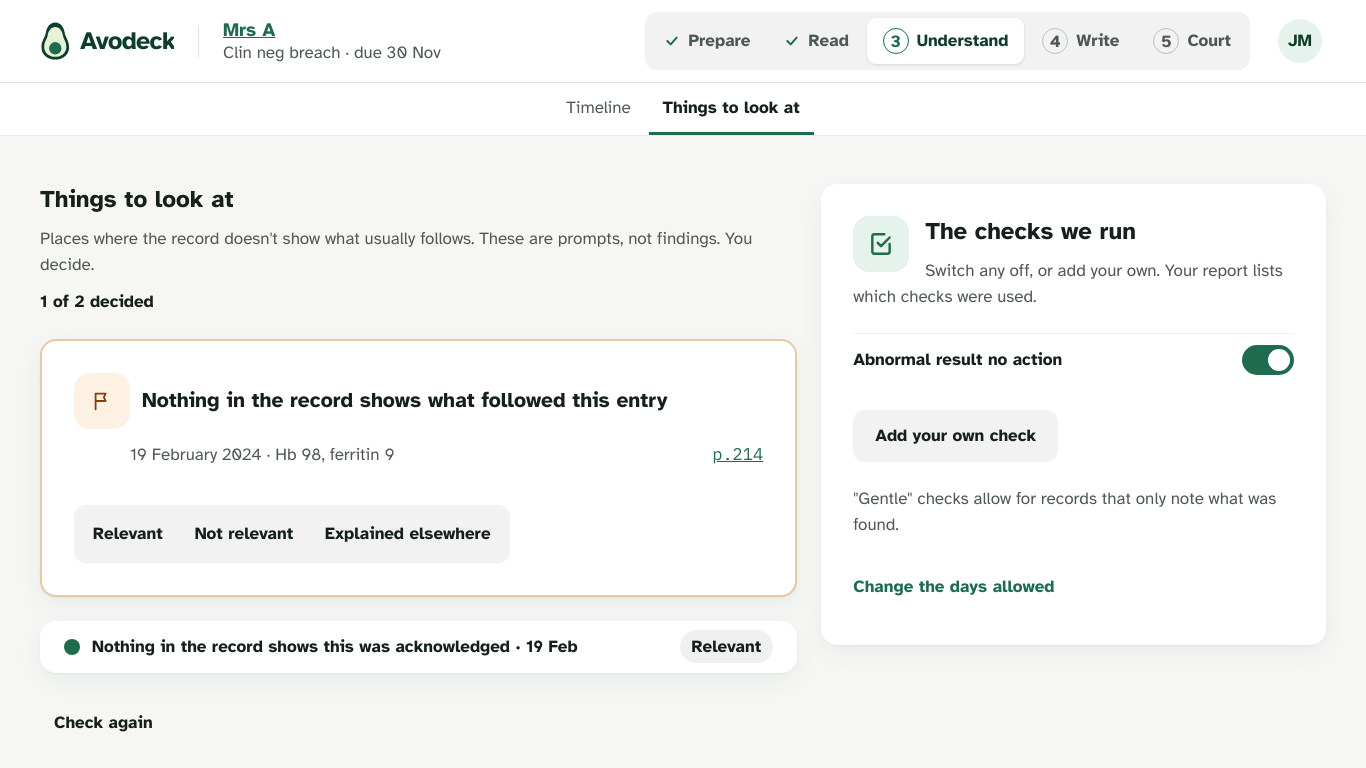
Test: 'relevant' is saved at once, without a reason
Click the button "Relevant". click: point(128, 534)
box: x1=77 y1=508 x2=179 y2=560
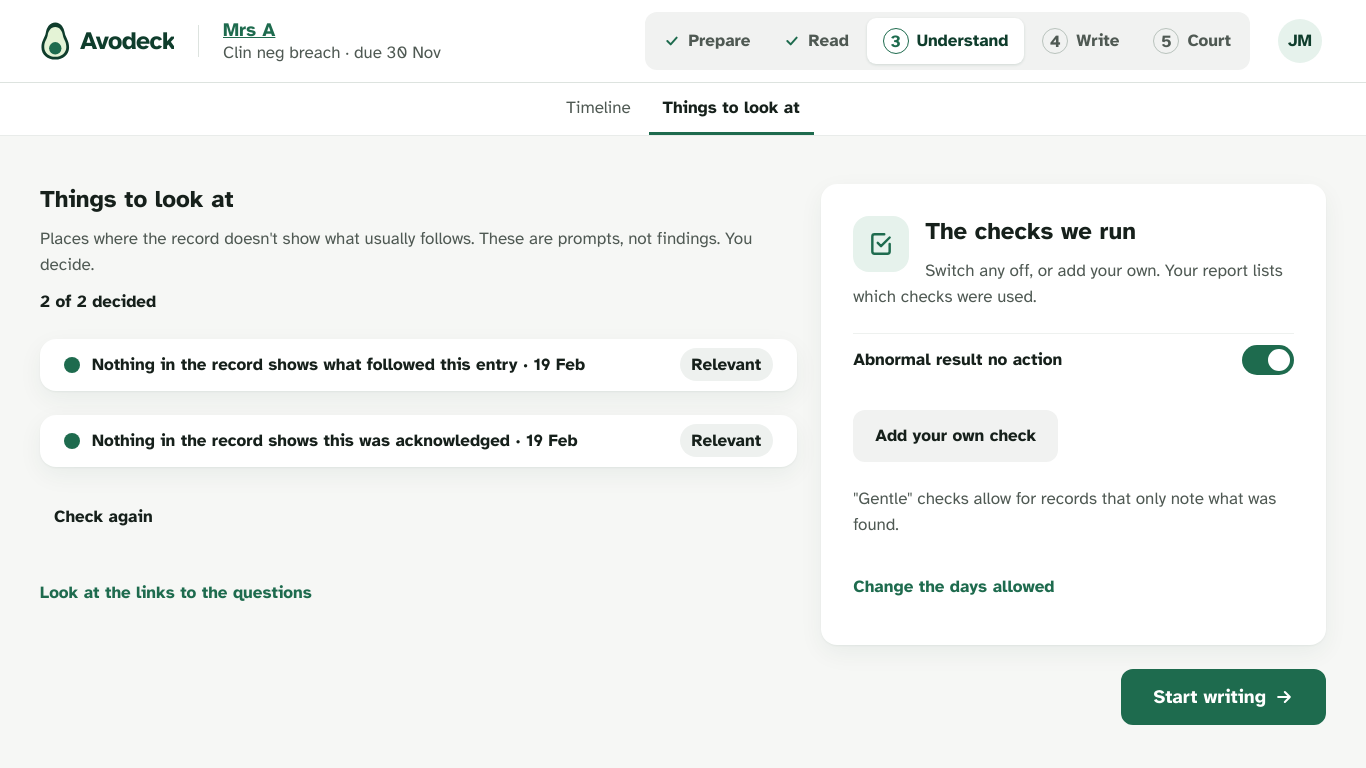
Expected: the text "2 of 2 decided" is shown, x1=40 y1=291 x2=156 y2=312
